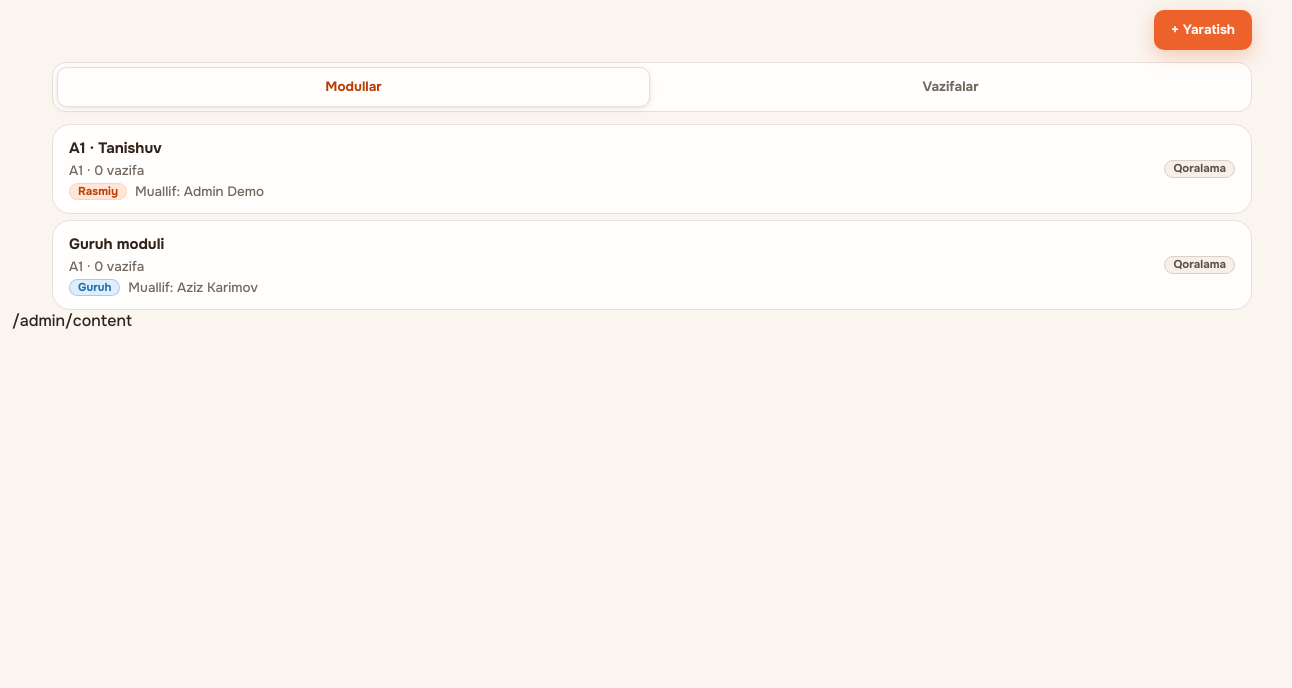
it: /admin/content — the list › shows the teacher list with author and visibility per row
Expected: the text "A1 · Tanishuv" is shown, [69,138,162,158]
Expected: the text "Rasmiy" is shown, [69,183,127,200]
Click the text "Guruh moduli" at (117, 244), box [69,234,164,254]
(page scrolled)
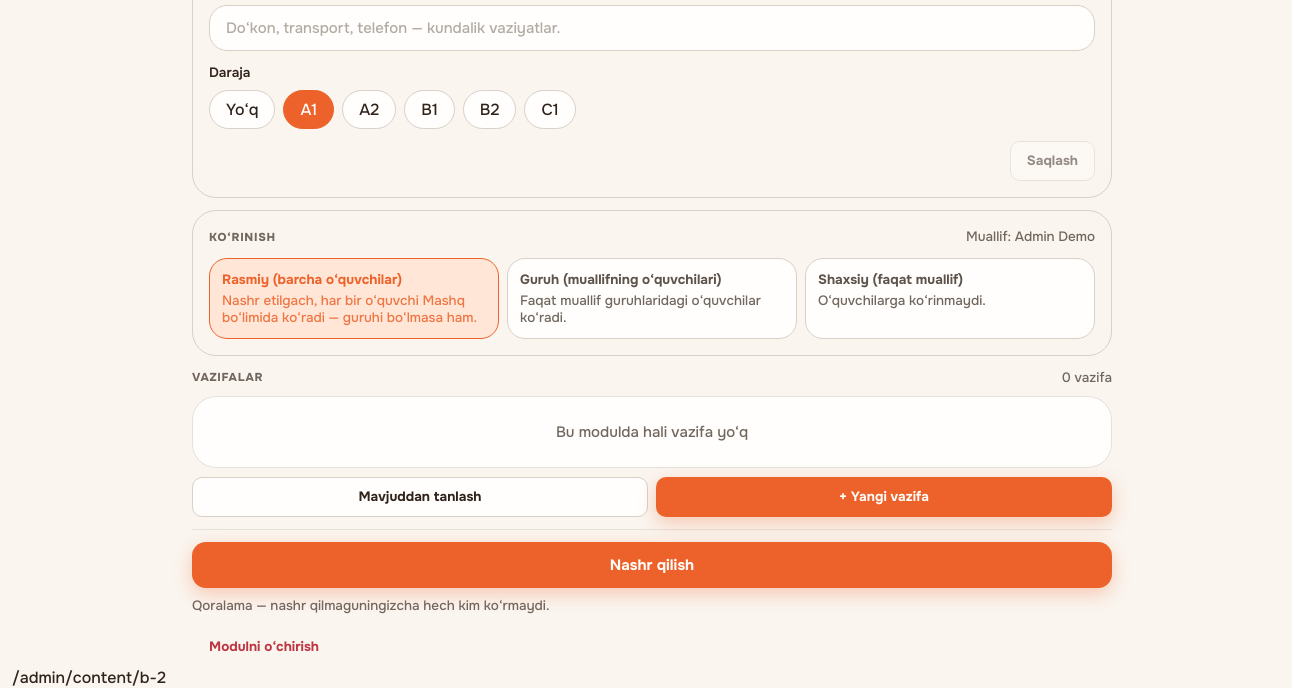
Result: the text with test id "where" reads "/admin/content/b-2" at [12,667,166,687]
